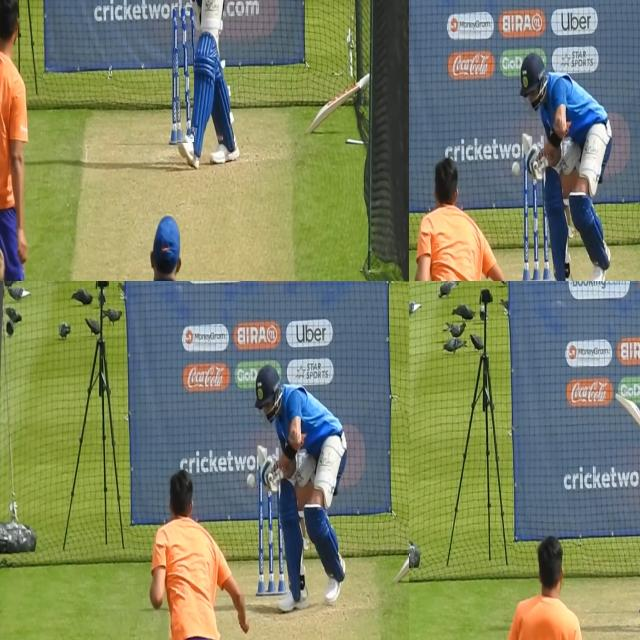Cricket ball: (510, 159, 523, 181), (245, 471, 258, 493)
Stumps: (172, 8, 194, 144)
